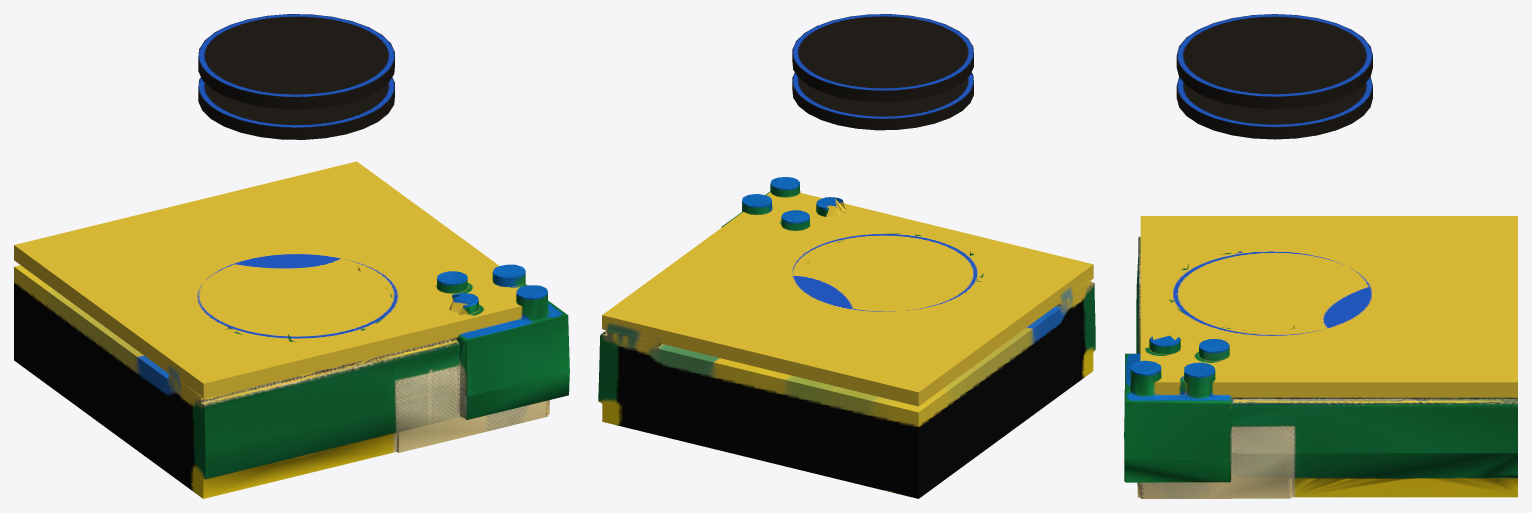
The model's file is 10-roof-front-right.fbx.
The picture shows the model from 3 angles, left to right: view 1: azimuth 30°, elevation 25°; view 2: azimuth 150°, elevation 25°; view 3: azimuth 270°, elevation 25°; orthographic projection. The views are drawn at different scales.
Parts seen in each view (by area): view 1: roof-front-right; view 2: roof-front-right; view 3: roof-front-right.
Part boxes in pixels (bbox=[...]): roof-front-right: bbox=[14, 14, 569, 498]; roof-front-right: bbox=[598, 14, 1095, 498]; roof-front-right: bbox=[1124, 14, 1517, 498].
Size of the model in its own units: 4911 by 4652 by 4699.
Materials: 1 (1 with a texture image).
